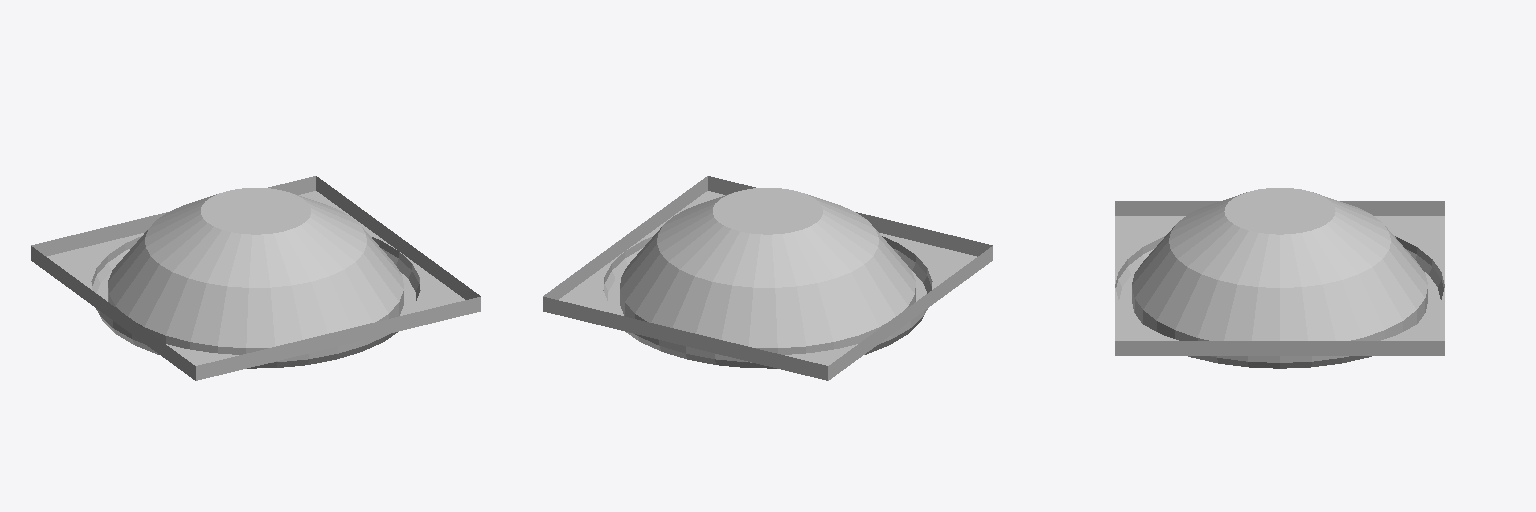
The model's file is Ceiling_with_lamp.obj.
The picture shows the model from 3 angles: view 1: azimuth 30°, elevation 25°; view 2: azimuth 150°, elevation 25°; view 3: azimuth 270°, elevation 25°; orthographic projection.
Visible parts, largest first — view 1: Cube.001; view 2: Cube.001; view 3: Cube.001.
Boxes of the visible parts, <box> form: Cube.001: <box>31,176,480,380</box>; Cube.001: <box>543,176,992,380</box>; Cube.001: <box>1115,188,1444,368</box>.
Bounding box in the file's own units: 0.2 × 0.06 × 0.2.